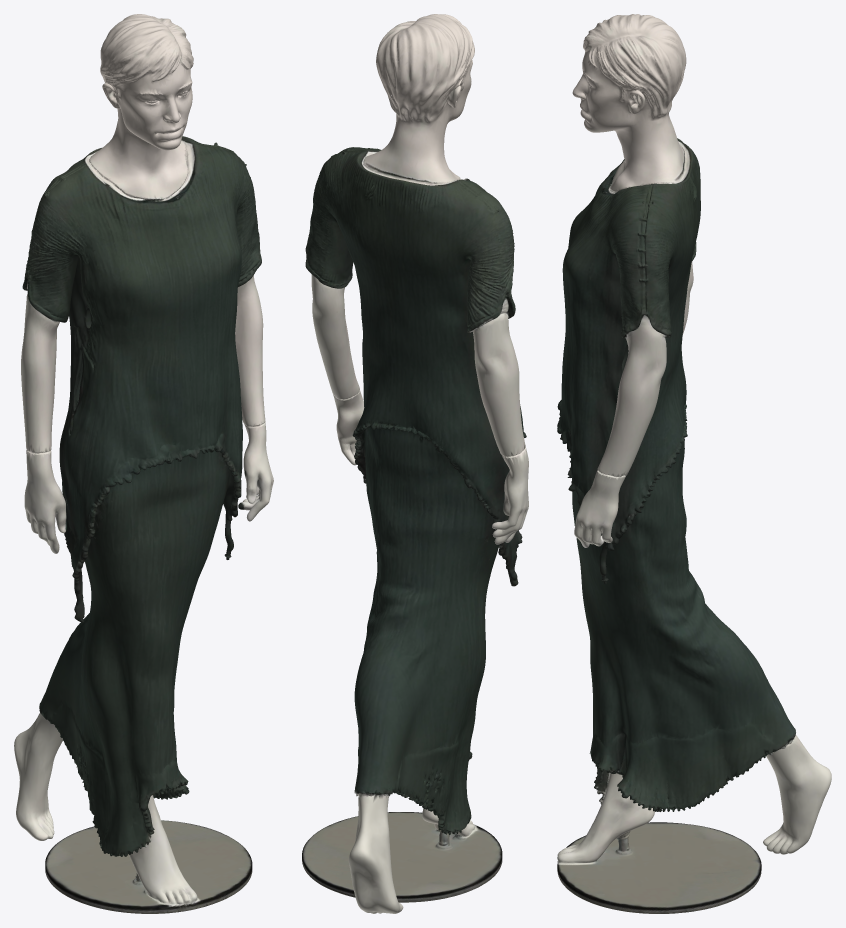
3 renders of one model, left to right at view 1: azimuth 30°, elevation 25°; view 2: azimuth 150°, elevation 25°; view 3: azimuth 270°, elevation 25°, orthographic. The views are drawn at different scales.
Visible parts, largest first — view 1: tripo_node_bd1be31c-760b-4cee-8ef3-ec07f7233ebf; view 2: tripo_node_bd1be31c-760b-4cee-8ef3-ec07f7233ebf; view 3: tripo_node_bd1be31c-760b-4cee-8ef3-ec07f7233ebf.
Boxes of the visible parts, x1,y1,x2,y2 form: tripo_node_bd1be31c-760b-4cee-8ef3-ec07f7233ebf: (14, 14, 273, 913); tripo_node_bd1be31c-760b-4cee-8ef3-ec07f7233ebf: (302, 14, 528, 913); tripo_node_bd1be31c-760b-4cee-8ef3-ec07f7233ebf: (557, 14, 831, 913).
Bounding box in the file's own units: 0.2689 × 0.9777 × 0.2874.
1 material, 1 textured.
